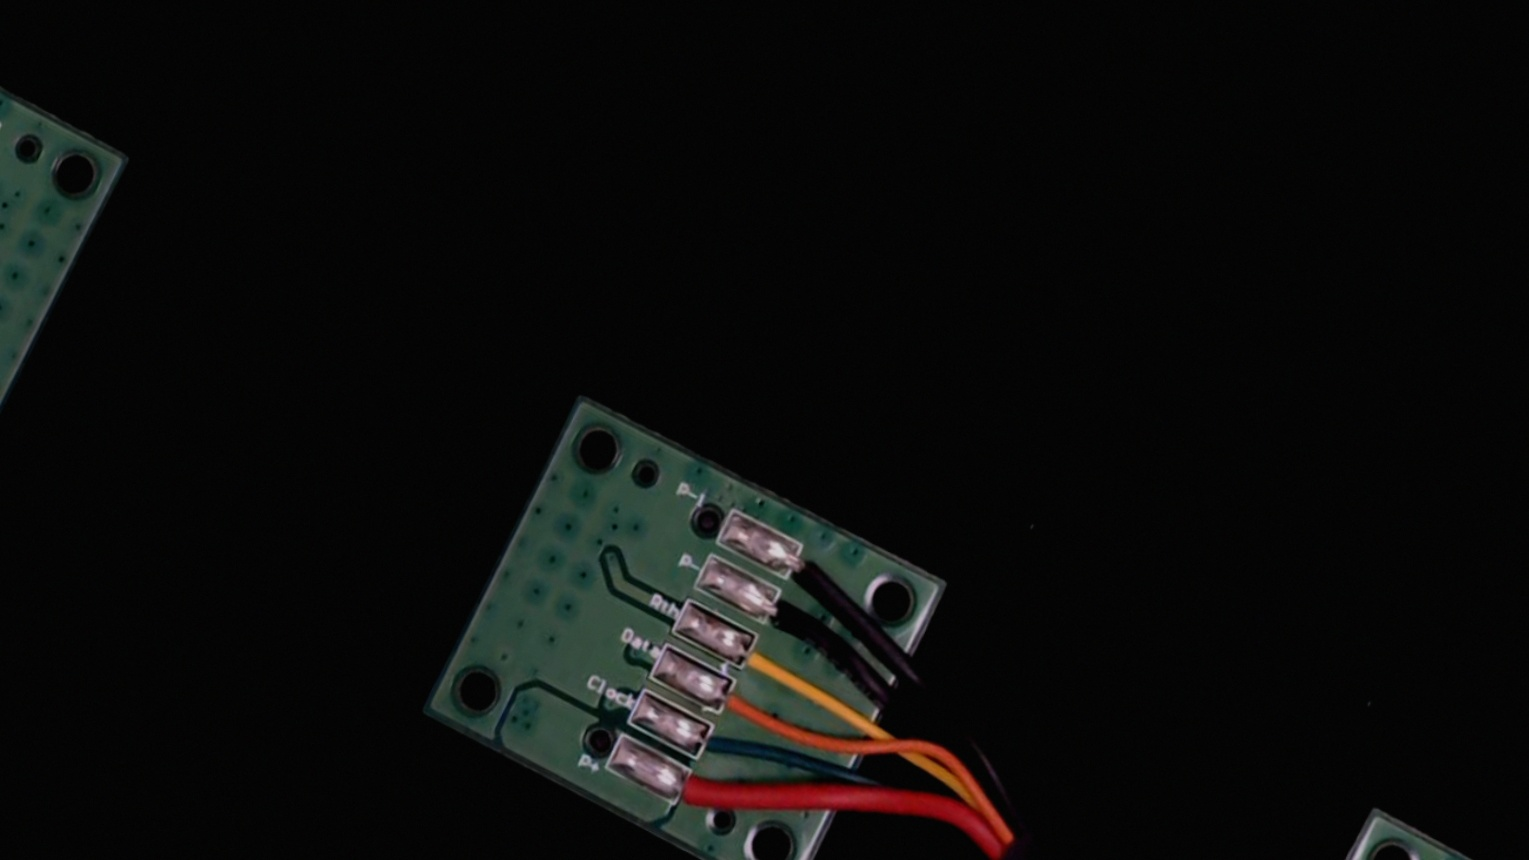Black: (737, 574, 841, 658)
Black1: (761, 532, 857, 610)
Green: (665, 706, 764, 786)
Orange: (690, 664, 791, 743)
Red: (647, 753, 747, 835)
Yellow: (716, 616, 820, 699)
